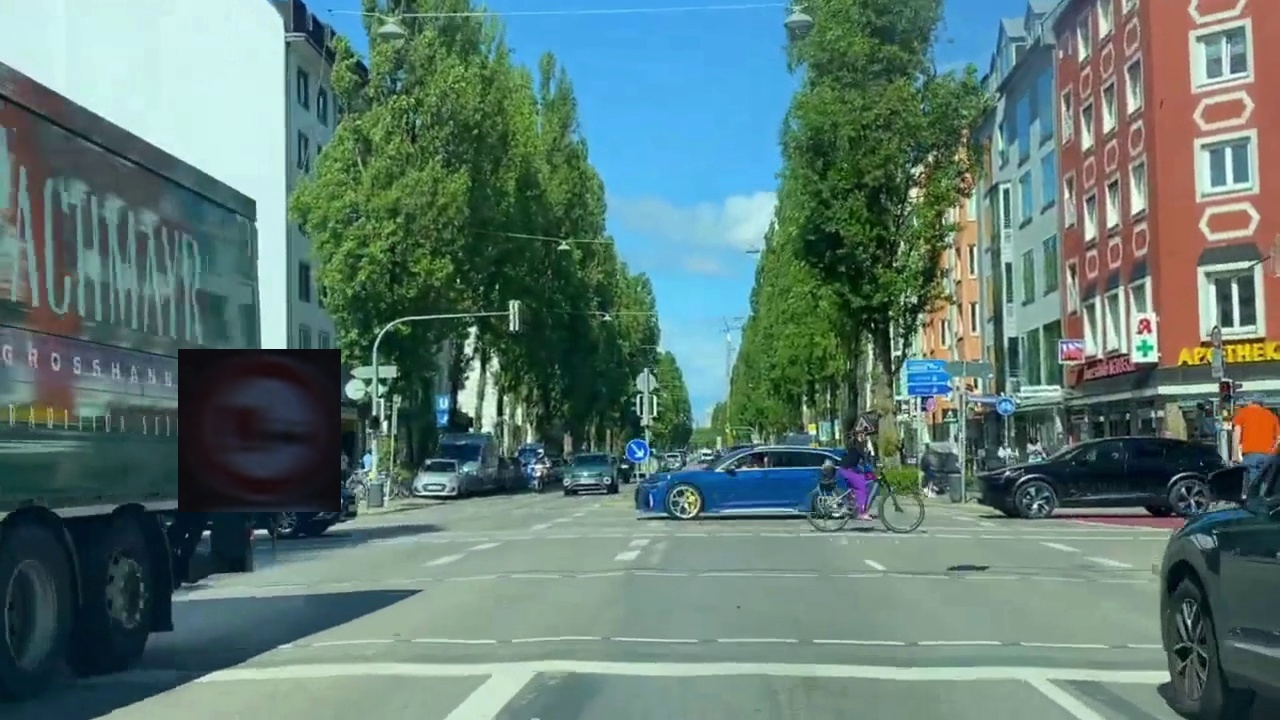No pass >3.5t: (178, 349, 341, 512)
